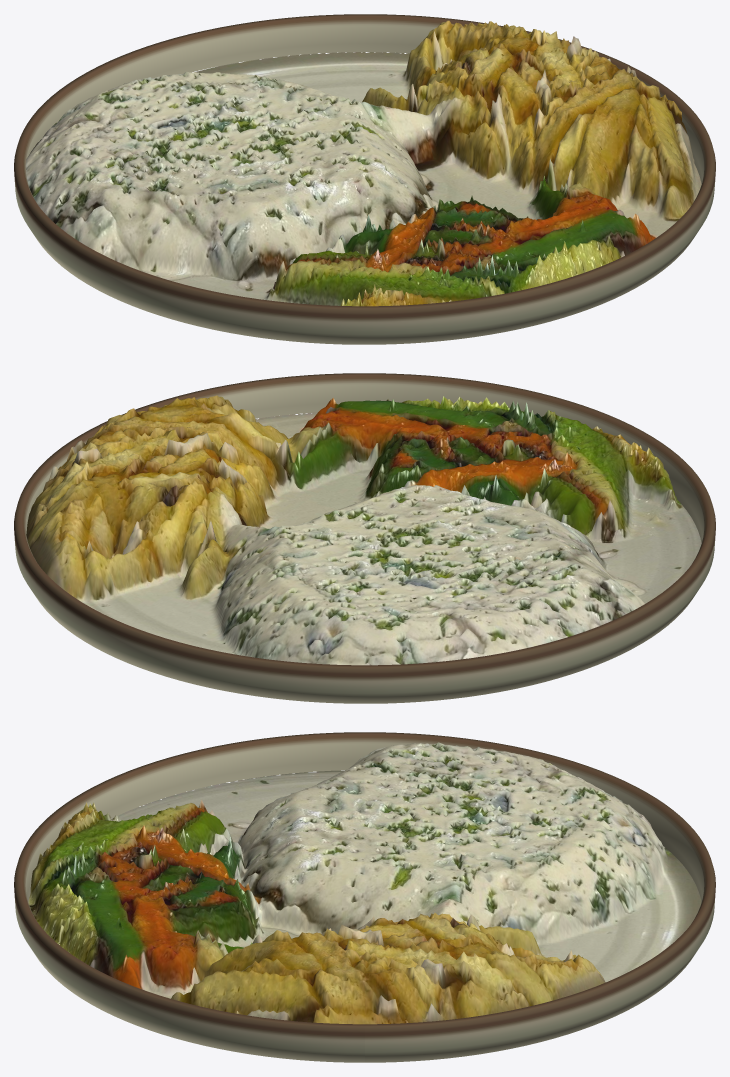
Rendered from chicken-supreme.glb.
3 views of the same model, one above another, from view 1: azimuth 30°, elevation 25°; view 2: azimuth 150°, elevation 25°; view 3: azimuth 270°, elevation 25° (orthographic).
Visible parts, largest first — view 1: food, plate; view 2: food, plate; view 3: food, plate.
Boxes of the visible parts, box(x1,y1,x2,y2) form: food: box(25, 20, 701, 306); plate: box(14, 14, 715, 344); food: box(26, 395, 701, 665); plate: box(14, 373, 715, 703); food: box(28, 742, 701, 1024); plate: box(14, 732, 715, 1062).
Size of the model in its own units: 0.27 by 0.04 by 0.27.
Materials: 2 (2 with a texture image).
